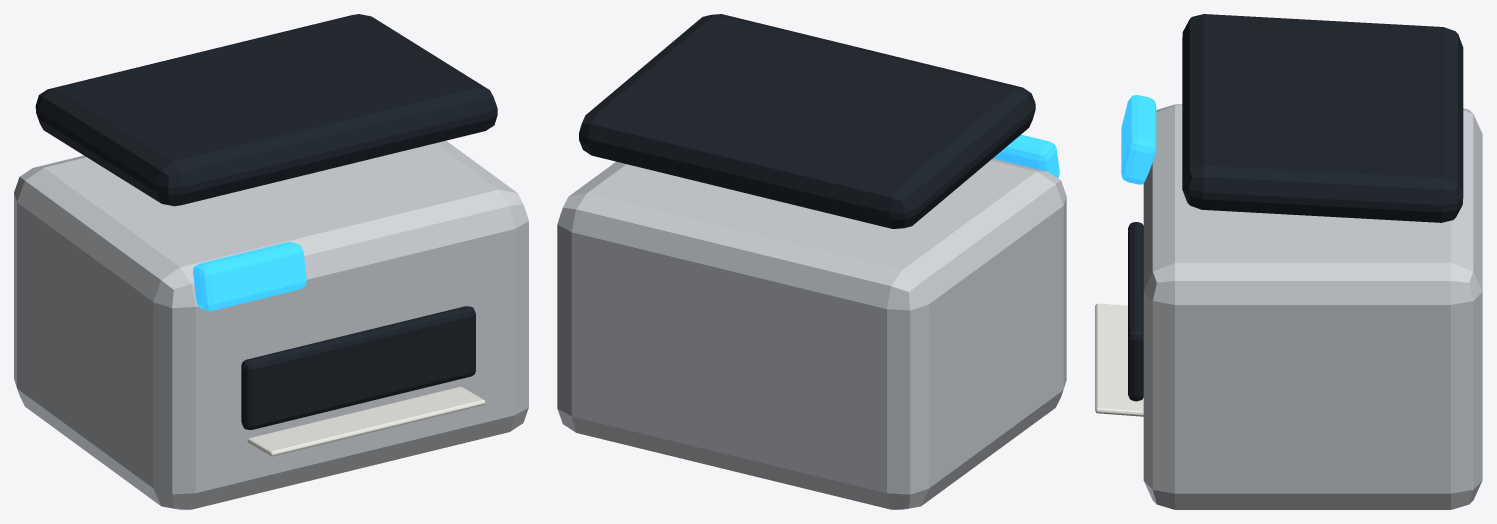
Rendered from office-printer.glb.
The picture shows the model from 3 angles, left to right: view 1: azimuth 30°, elevation 25°; view 2: azimuth 150°, elevation 25°; view 3: azimuth 270°, elevation 25°; orthographic projection. The views are drawn at different scales.
Parts seen in each view (by area): view 1: printer · Warm white, printer · Soft black, printer · Active display, printer · Paper; view 2: printer · Warm white, printer · Soft black, printer · Active display; view 3: printer · Warm white, printer · Soft black, printer · Paper, printer · Active display.
Part boxes in pixels (x1=…): printer · Warm white: x1=14, y1=140, x2=528, y2=509; printer · Soft black: x1=35, y1=14, x2=497, y2=429; printer · Active display: x1=193, y1=242, x2=306, y2=311; printer · Paper: x1=247, y1=386, x2=485, y2=456; printer · Warm white: x1=557, y1=158, x2=1066, y2=509; printer · Soft black: x1=579, y1=14, x2=1035, y2=228; printer · Active display: x1=993, y1=134, x2=1059, y2=178; printer · Warm white: x1=1143, y1=104, x2=1482, y2=509; printer · Soft black: x1=1128, y1=14, x2=1463, y2=401; printer · Paper: x1=1095, y1=303, x2=1143, y2=416; printer · Active display: x1=1121, y1=95, x2=1156, y2=184.
Bounding box in the file's own units: 0.9 × 0.7748 × 0.7995.
